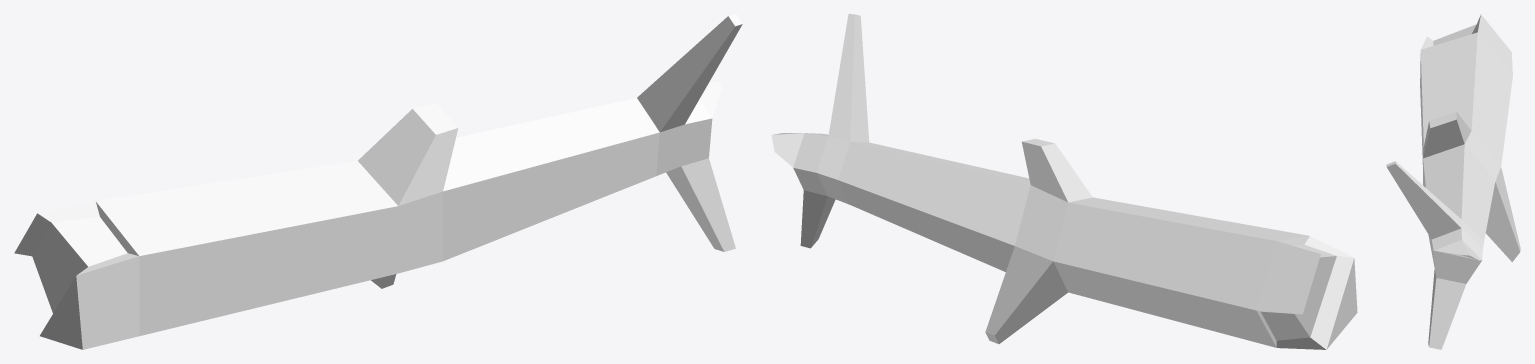
File: tree.sequoia.fallen.glb
3 views of the same model, side by side, from view 1: azimuth 30°, elevation 25°; view 2: azimuth 150°, elevation 25°; view 3: azimuth 270°, elevation 25° (orthographic). The views are drawn at different scales.
Visible parts, largest first — view 1: sequoia.fallen; view 2: sequoia.fallen; view 3: sequoia.fallen.
Part boxes in pixels (x1,y1,x2,y2): sequoia.fallen: [14, 14, 742, 349]; sequoia.fallen: [771, 14, 1357, 349]; sequoia.fallen: [1386, 14, 1520, 349].
Size of the model in its own units: 5.12 by 1.97 by 1.3.
Materials: 1 (1 with a texture image).
